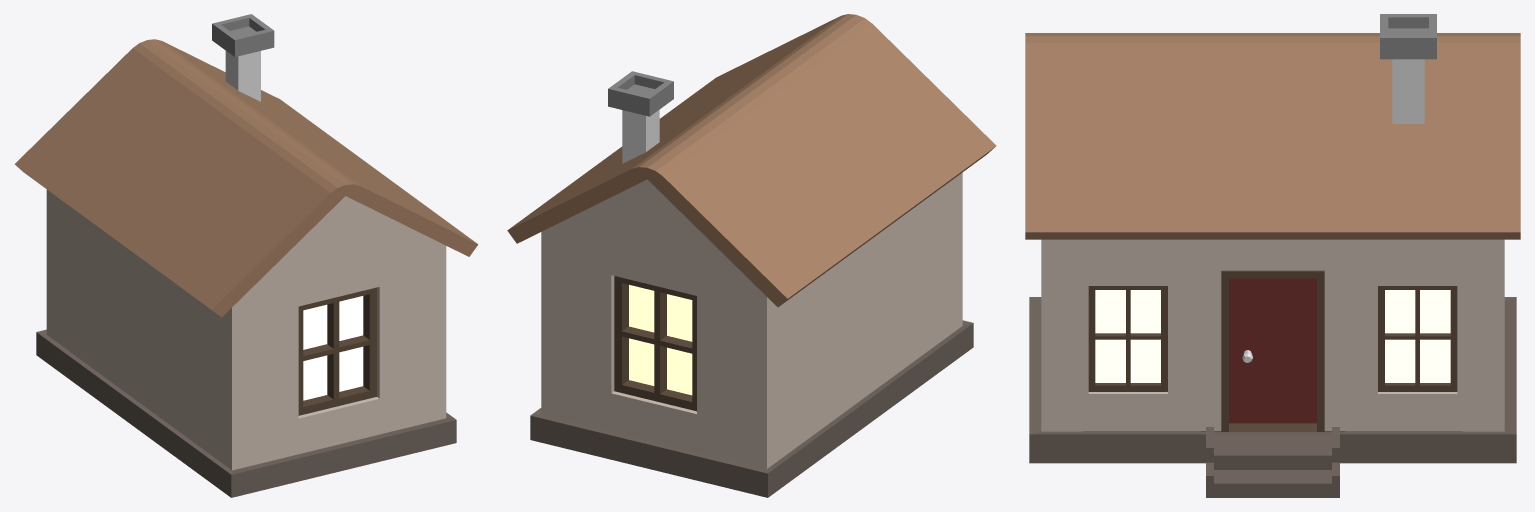
Rendered from low_poly_house.glb.
The picture shows the model from 3 angles, left to right: view 1: azimuth 30°, elevation 25°; view 2: azimuth 150°, elevation 25°; view 3: azimuth 270°, elevation 25°; orthographic projection. The views are drawn at different scales.
Visible parts, largest first — view 1: Walls, Roof, Windows 2, Chimney; view 2: Walls, Roof, Windows 2, Chimney; view 3: Roof, Walls, Windows 1, Door, Chimney.
Boxes of the visible parts, x1=… form: Walls: x1=36, y1=189, x2=456, y2=497; Roof: x1=14, y1=39, x2=478, y2=317; Windows 2: x1=298, y1=287, x2=376, y2=415; Chimney: x1=212, y1=14, x2=274, y2=101; Walls: x1=530, y1=172, x2=973, y2=497; Roof: x1=507, y1=14, x2=996, y2=307; Windows 2: x1=614, y1=276, x2=696, y2=411; Chimney: x1=608, y1=71, x2=673, y2=163; Roof: x1=1025, y1=33, x2=1520, y2=239; Walls: x1=1029, y1=239, x2=1516, y2=497; Windows 1: x1=1088, y1=286, x2=1457, y2=391; Door: x1=1221, y1=270, x2=1324, y2=431; Chimney: x1=1380, y1=14, x2=1436, y2=123.
Bounding box in the file's own units: 4.87 × 4.92 × 5.53.
